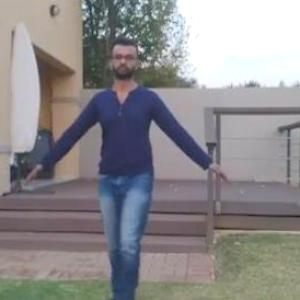land: (49, 48, 233, 299)
